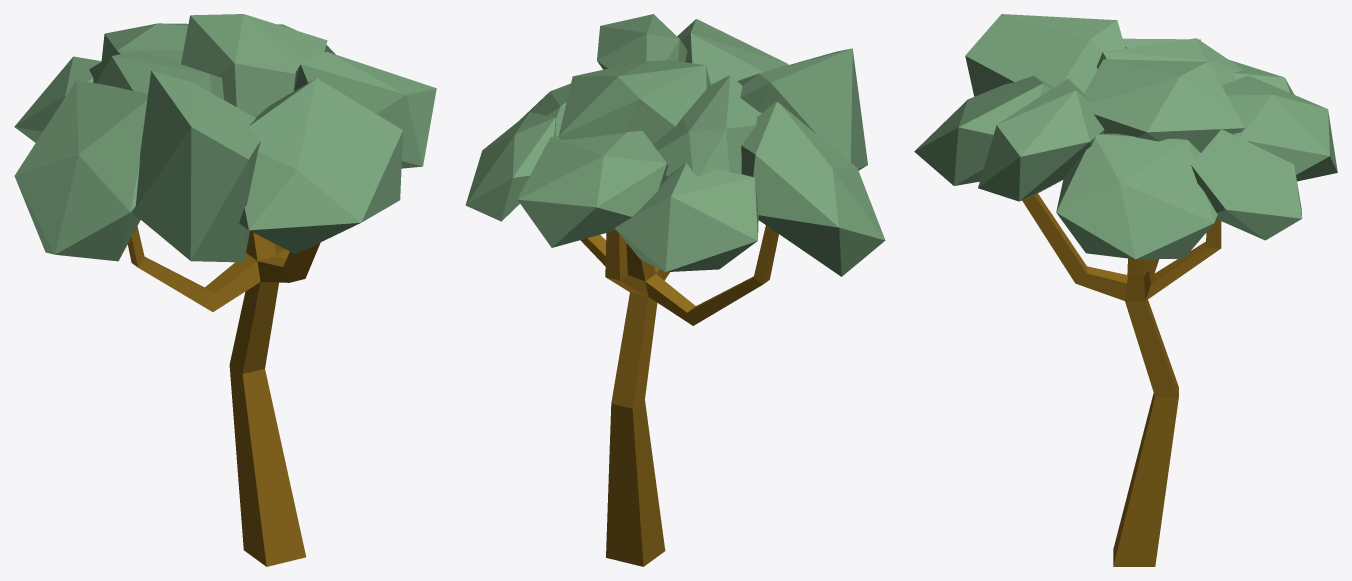
The model's file is GrasslandsTreeType10.fbx.
The picture shows the model from 3 angles, left to right: view 1: azimuth 30°, elevation 25°; view 2: azimuth 150°, elevation 25°; view 3: azimuth 270°, elevation 25°; orthographic projection. The views are drawn at different scales.
Parts seen in each view (by area): view 1: GrasslandsTreeType10; view 2: GrasslandsTreeType10; view 3: GrasslandsTreeType10.
Boxes of the visible parts, x1,y1,x2,y2 form: GrasslandsTreeType10: (14, 14, 436, 566); GrasslandsTreeType10: (465, 14, 885, 566); GrasslandsTreeType10: (914, 14, 1337, 566).
Size of the model in its own units: 3.92 by 5.04 by 4.04.
